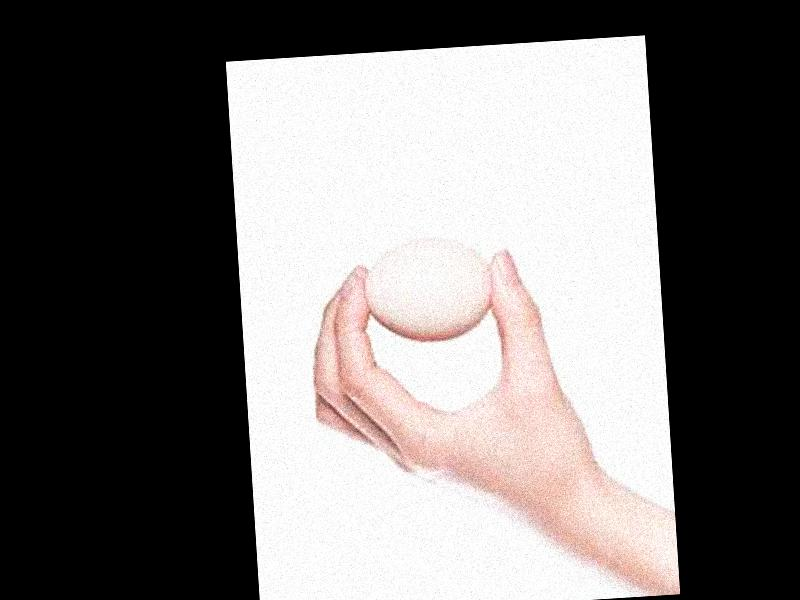Eggs: (360, 234, 496, 345)
